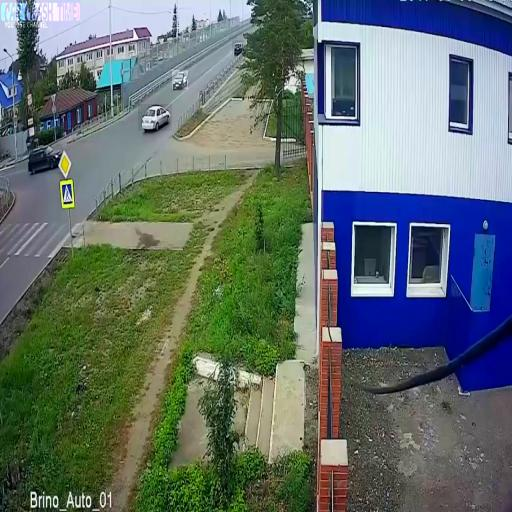小汽车: (27, 144, 63, 174), (138, 104, 172, 131), (172, 70, 188, 89), (232, 40, 246, 54)
